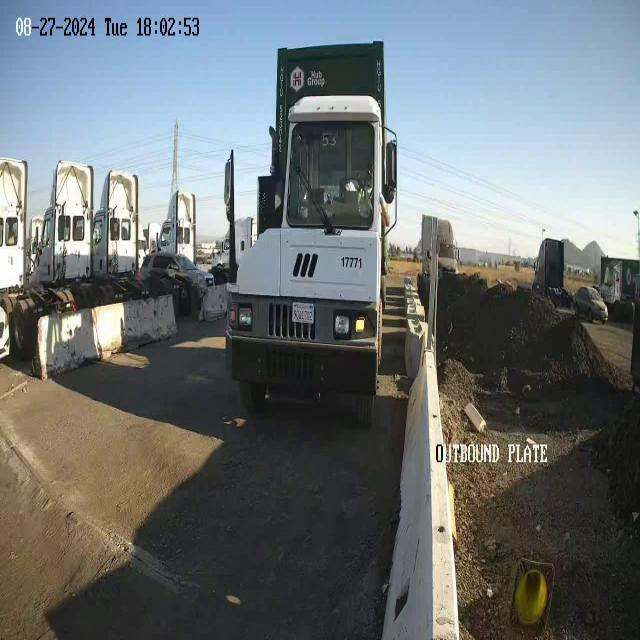TRUCK_CONTAINER: (223, 40, 399, 426)
